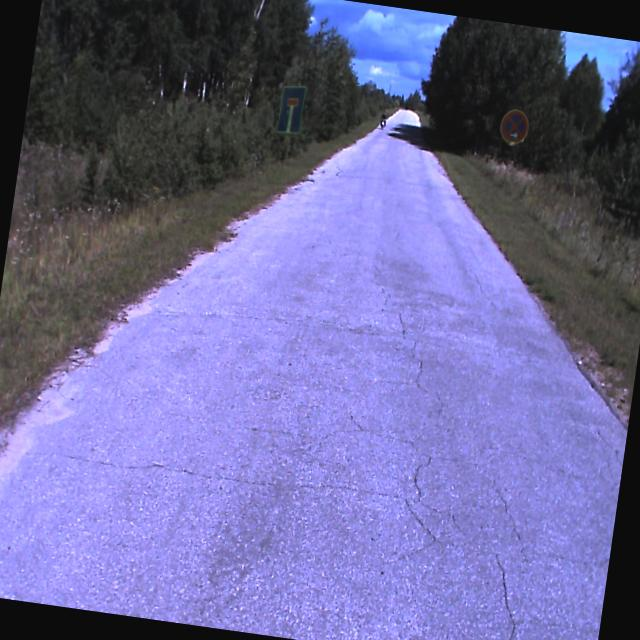road: (0, 108, 626, 640)
